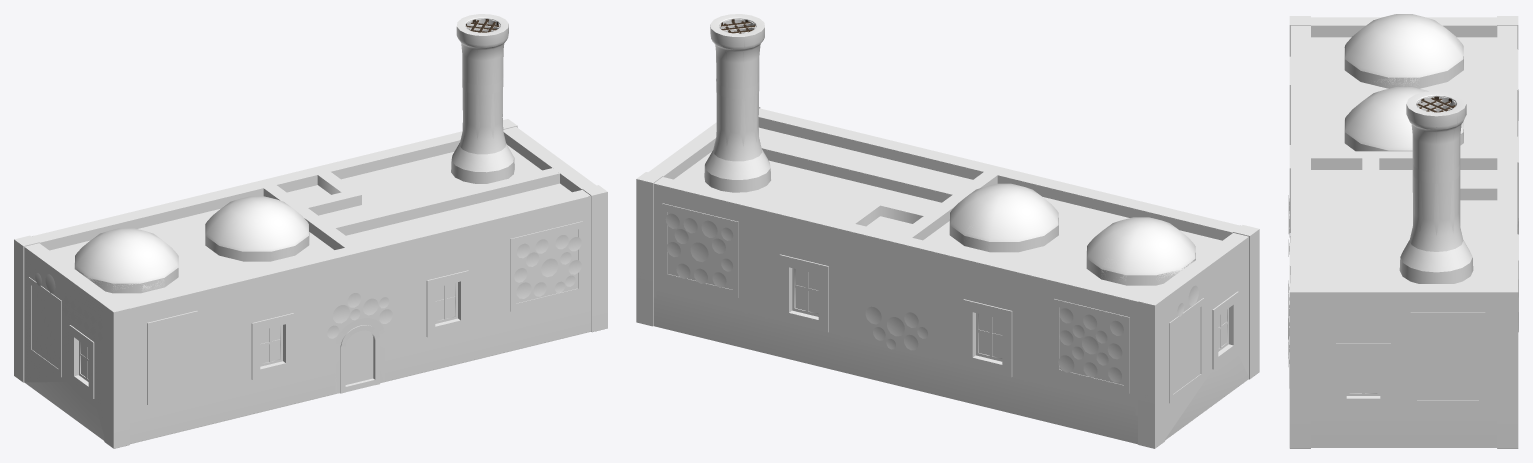
File: objects_un_t09house02.gltf
The picture shows the model from 3 angles, left to right: view 1: azimuth 30°, elevation 25°; view 2: azimuth 150°, elevation 25°; view 3: azimuth 270°, elevation 25°; orthographic projection. The views are drawn at different scales.
Parts seen in each view (by area): view 1: nomerge_objects_un_t09house02_mesh2_shape:objects_un_t09hous, um_objects_un_t09house02_model_lod0Shape:objects_un_t09house (×5), nomerge_objects_un_t09house02_mesh1_shape:objects_un_t09hous, um_objects_un_t09house02_model_lod2Shape:objects_un_t09house (×2), um_objects_un_t09house02_model_lod1Shape:objects_un_t09house (×2); view 2: um_objects_un_t09house02_model_lod0Shape:objects_un_t09house (×4), nomerge_objects_un_t09house02_mesh2_shape:objects_un_t09hous, nomerge_objects_un_t09house02_mesh1_shape:objects_un_t09hous, um_objects_un_t09house02_model_lod2Shape:objects_un_t09house (×2), um_objects_un_t09house02_model_lod1Shape:objects_un_t09house; view 3: nomerge_objects_un_t09house02_mesh2_shape:objects_un_t09hous, um_objects_un_t09house02_model_lod0Shape:objects_un_t09house (×5), nomerge_objects_un_t09house02_mesh1_shape:objects_un_t09hous, um_objects_un_t09house02_model_lod1Shape:objects_un_t09house.
Part boxes in pixels (<box>): nomerge_objects_un_t09house02_mesh2_shape:objects_un_t09hous: <box>24,24,596,443</box>; um_objects_un_t09house02_model_lod0Shape:objects_un_t09house (×5): <box>14,18,607,448</box>; nomerge_objects_un_t09house02_mesh1_shape:objects_un_t09hous: <box>49,14,571,302</box>; um_objects_un_t09house02_model_lod2Shape:objects_un_t09house (×2): <box>35,196,591,415</box>; um_objects_un_t09house02_model_lod1Shape:objects_un_t09house (×2): <box>15,119,607,382</box>; um_objects_un_t09house02_model_lod0Shape:objects_un_t09house (×4): <box>636,19,1259,448</box>; nomerge_objects_un_t09house02_mesh2_shape:objects_un_t09hous: <box>648,25,1248,384</box>; nomerge_objects_un_t09house02_mesh1_shape:objects_un_t09hous: <box>674,14,1221,294</box>; um_objects_un_t09house02_model_lod2Shape:objects_un_t09house (×2): <box>653,193,1232,386</box>; um_objects_un_t09house02_model_lod1Shape:objects_un_t09house: <box>666,214,1198,381</box>; nomerge_objects_un_t09house02_mesh2_shape:objects_un_t09hous: <box>1291,17,1517,447</box>; um_objects_un_t09house02_model_lod0Shape:objects_un_t09house (×5): <box>1288,14,1518,448</box>; nomerge_objects_un_t09house02_mesh1_shape:objects_un_t09hous: <box>1311,37,1497,283</box>; um_objects_un_t09house02_model_lod1Shape:objects_un_t09house: <box>1289,16,1518,412</box>.
Size of what is drawn, in the model's own units: 21.7 by 11.4 by 7.65.
Materials: 10 (1 with a texture image).
